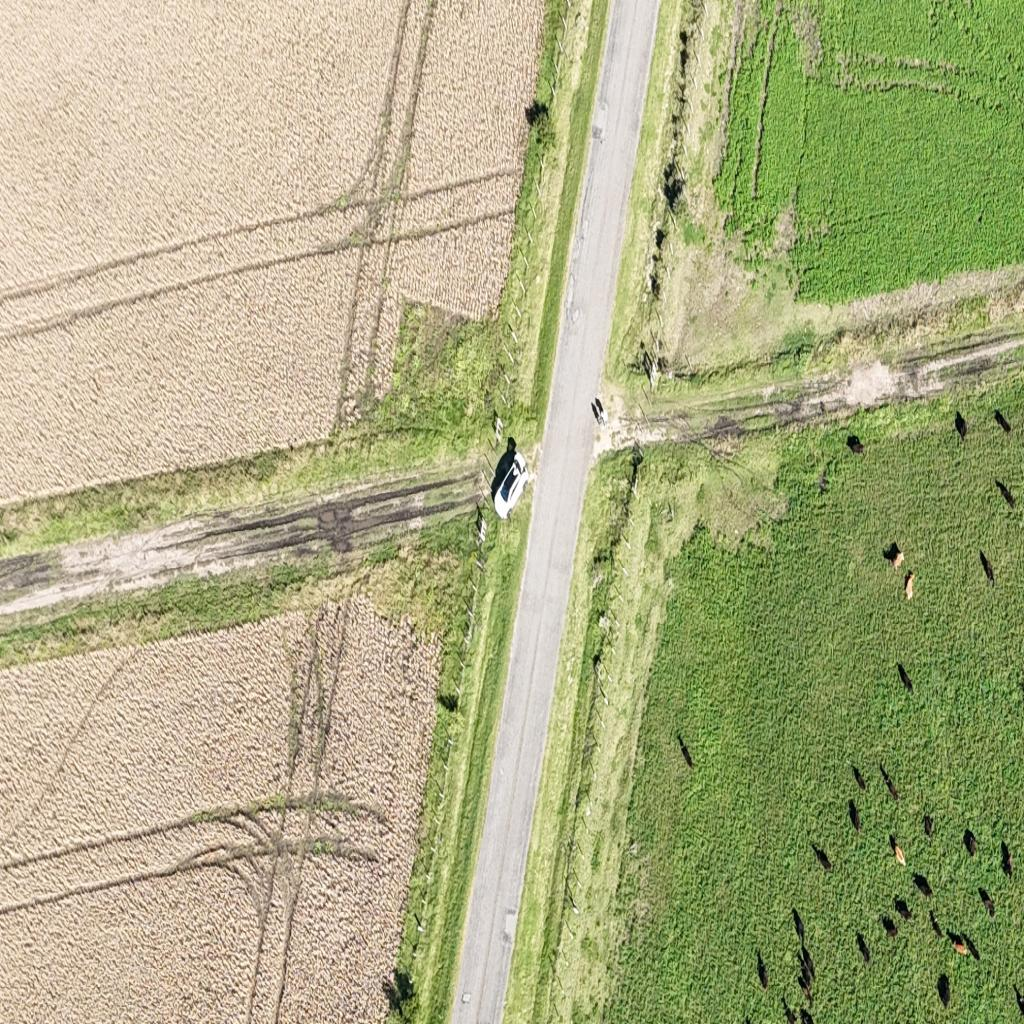cow: (426, 679, 466, 726), (391, 959, 420, 1006), (797, 952, 814, 992), (881, 765, 899, 802), (979, 548, 996, 587), (946, 931, 969, 959), (812, 843, 833, 873), (996, 478, 1016, 509), (978, 886, 996, 918), (678, 732, 693, 769), (1001, 838, 1014, 880), (912, 872, 932, 899), (792, 906, 806, 944), (890, 836, 906, 868), (928, 908, 944, 940), (937, 972, 951, 1008), (963, 934, 981, 962), (897, 662, 913, 693), (994, 410, 1012, 437), (963, 826, 978, 858), (894, 897, 913, 922), (848, 800, 861, 836), (954, 412, 968, 444), (856, 932, 870, 963), (852, 765, 867, 793), (847, 434, 866, 456), (889, 546, 905, 571), (758, 951, 768, 990), (882, 915, 897, 939), (783, 1001, 798, 1024), (904, 572, 916, 598), (923, 812, 934, 839), (1017, 982, 1024, 1020), (818, 472, 830, 494), (800, 1006, 814, 1024), (1020, 678, 1024, 698), (744, 1015, 752, 1024)
